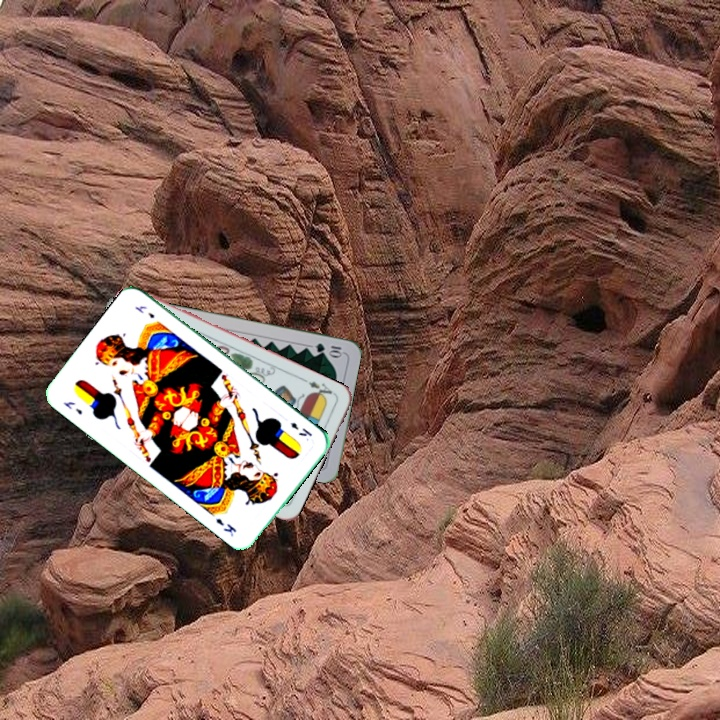EA: (300, 375, 338, 402)
EK: (286, 418, 314, 439), (59, 397, 85, 417)
G10: (312, 339, 345, 359)
